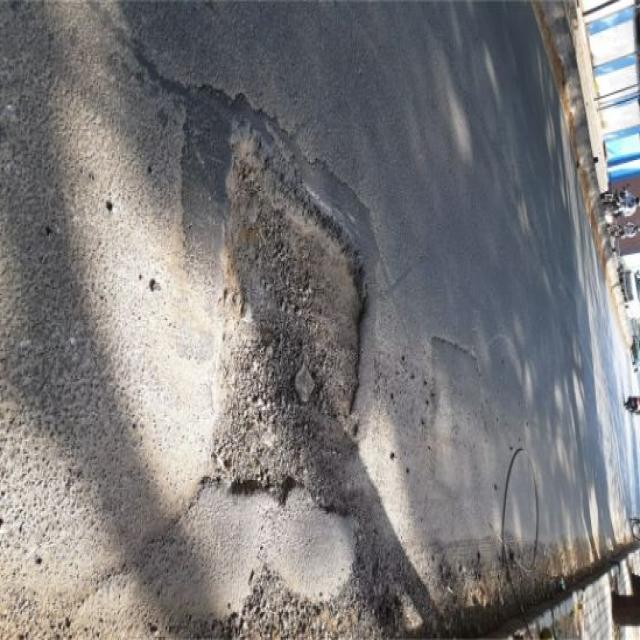pothole: (198, 107, 380, 511)
